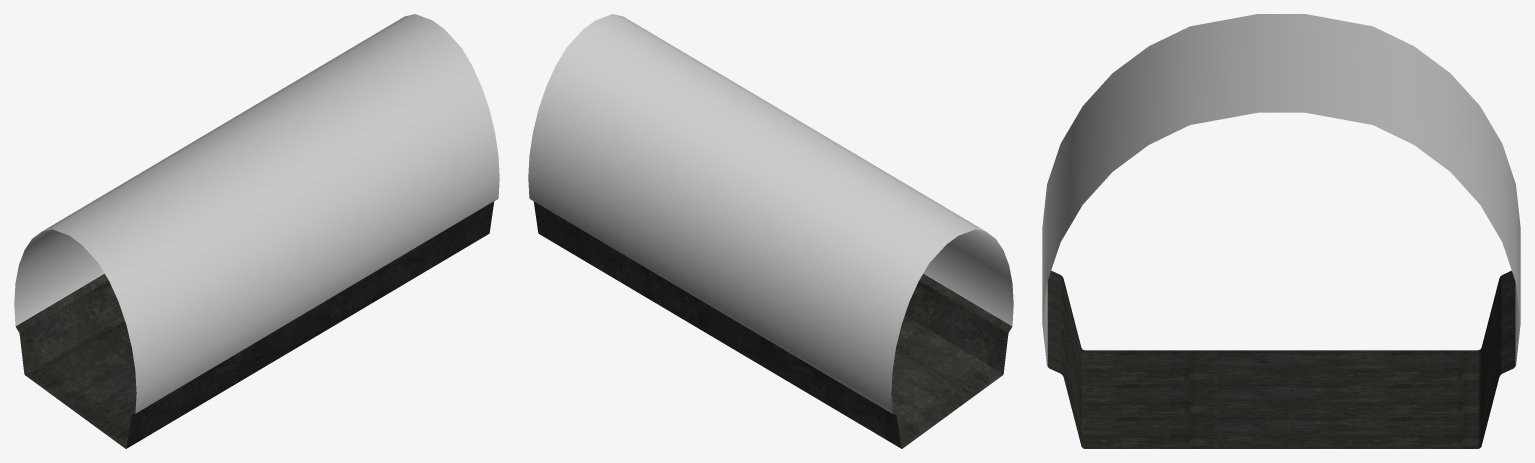
File: tunnel_straight_down_2.obj
The picture shows the model from 3 angles, left to right: view 1: azimuth 30°, elevation 25°; view 2: azimuth 150°, elevation 25°; view 3: azimuth 270°, elevation 25°; orthographic projection. The views are drawn at different scales.
Parts seen in each view (by area): view 1: tunnel_straight_down_2; view 2: tunnel_straight_down_2; view 3: tunnel_straight_down_2.
Part boxes in pixels (x1,y1,x2,y2): tunnel_straight_down_2: (14,14,499,448); tunnel_straight_down_2: (528,14,1013,448); tunnel_straight_down_2: (1042,14,1520,448).
Size of the model in its own units: 6 by 4.72 by 3.5.
